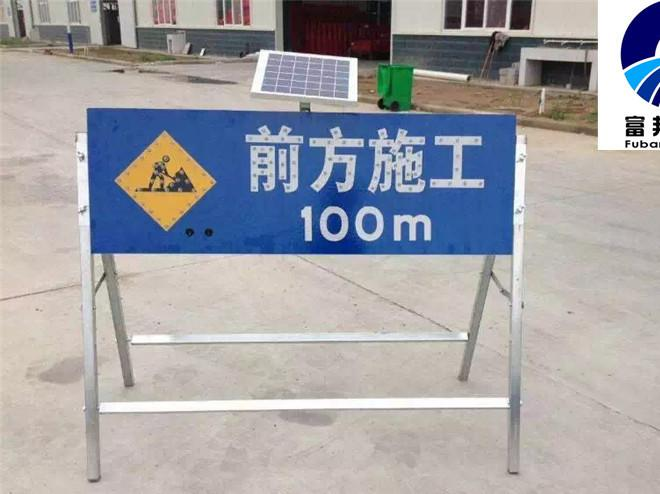sign: (87, 108, 514, 256)
